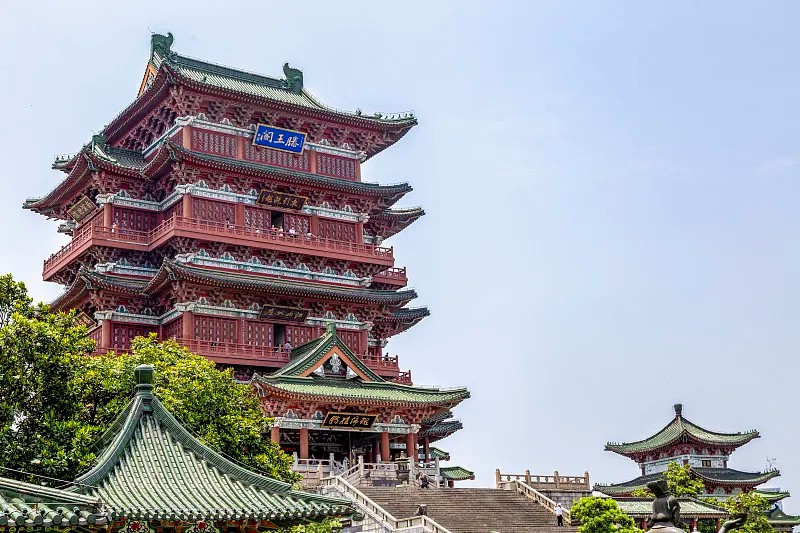Teng: (23, 32, 472, 469)
